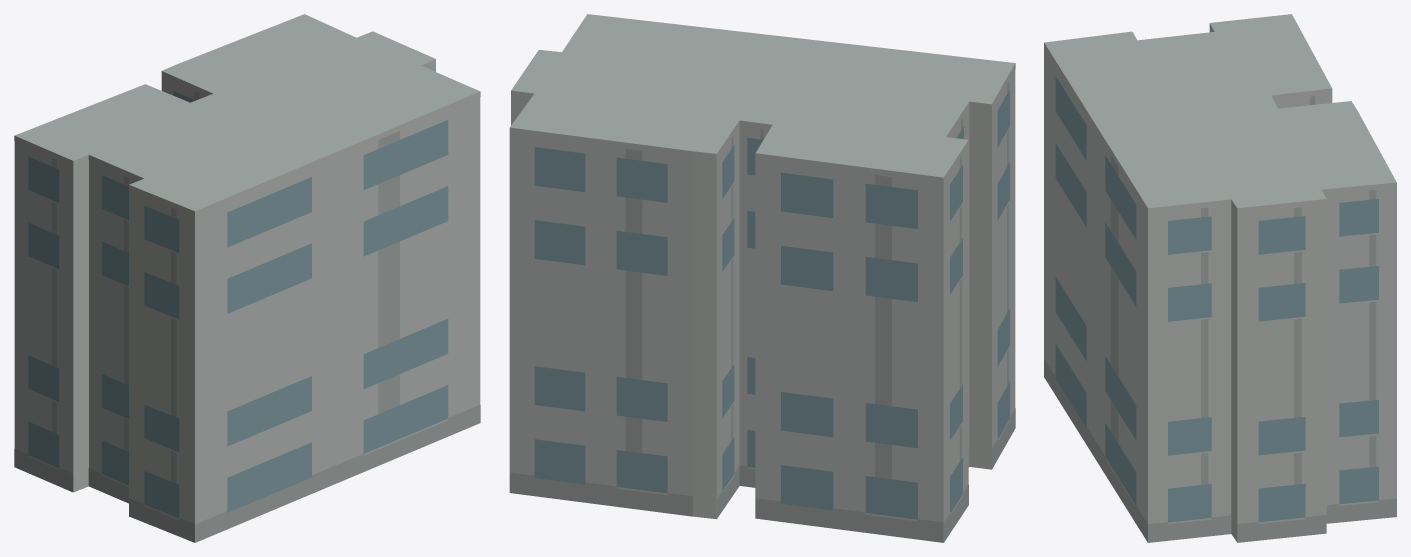
The model's file is survey-upis-32971633.glb.
The picture shows the model from 3 angles, left to right: view 1: azimuth 30°, elevation 25°; view 2: azimuth 150°, elevation 25°; view 3: azimuth 270°, elevation 25°; orthographic projection. The views are drawn at different scales.
Parts seen in each view (by area): view 1: survey-upis-32971633.tmp; view 2: survey-upis-32971633.tmp; view 3: survey-upis-32971633.tmp.
Boxes of the visible parts, left/top/right/bottom form: survey-upis-32971633.tmp: left=14, top=14, right=480, bottom=542; survey-upis-32971633.tmp: left=509, top=14, right=1015, bottom=542; survey-upis-32971633.tmp: left=1044, top=14, right=1396, bottom=542.
Size of the model in its own units: 17.82 by 14.3 by 13.67.
